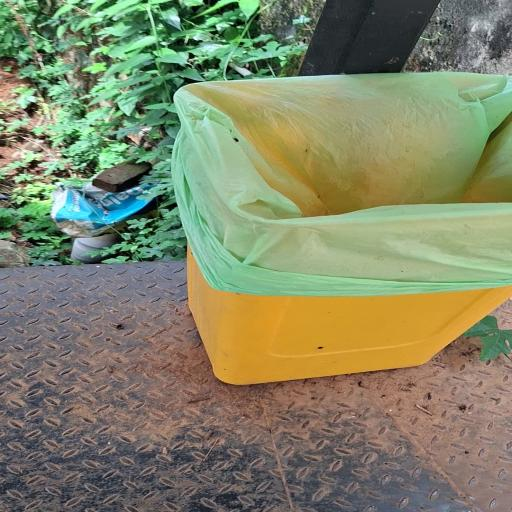Nilkamal-dustbin-detection: (173, 73, 512, 384)
